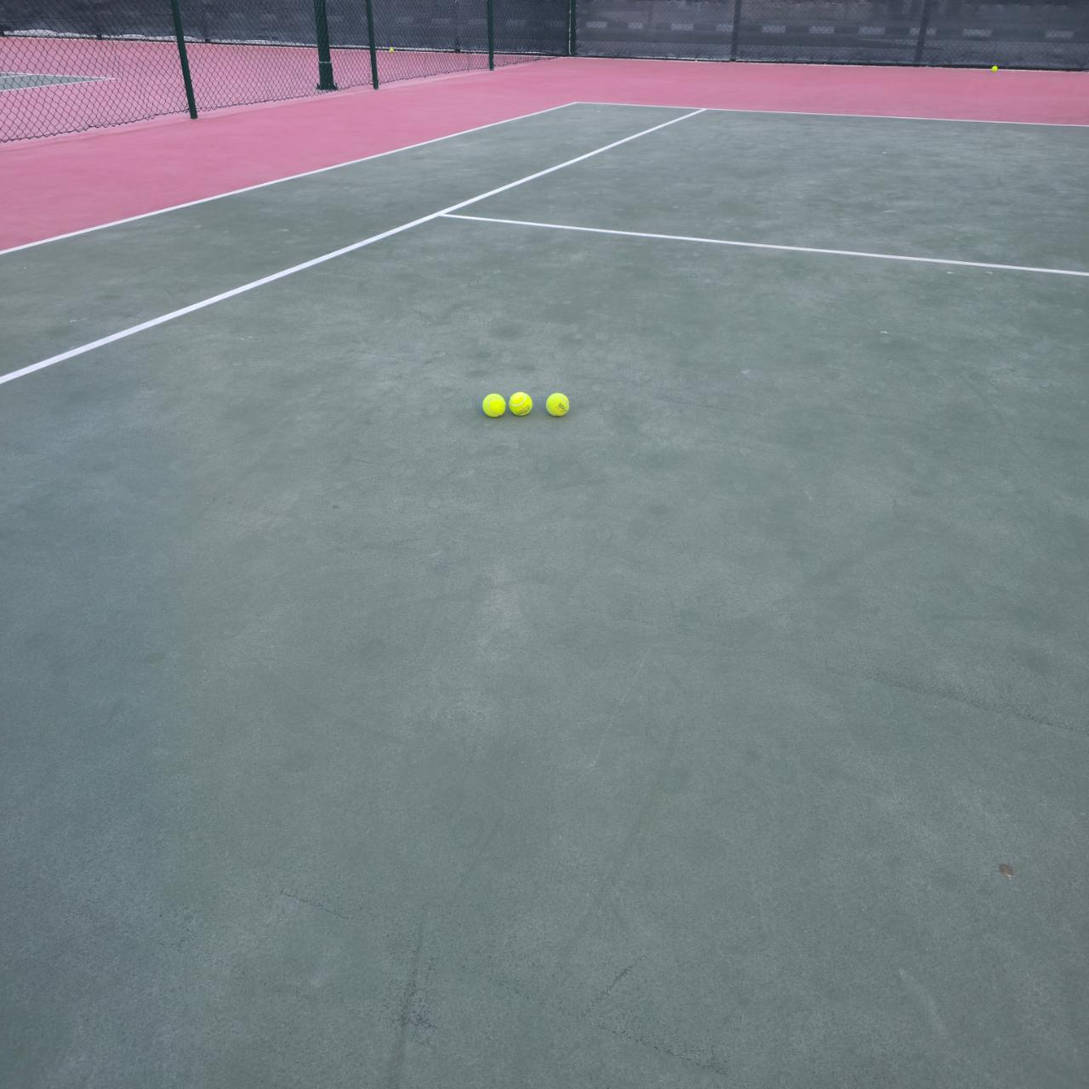tennis-ball: (506, 389, 533, 417), (480, 391, 506, 418), (544, 390, 570, 417), (992, 66, 998, 72)
